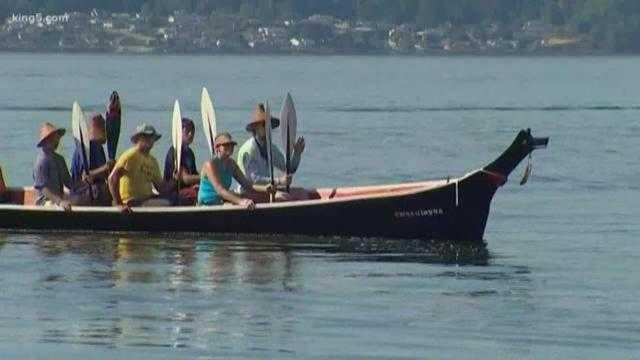kayak: (4, 131, 549, 243), (236, 102, 318, 201)
